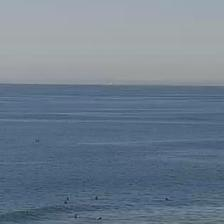surfer: (93, 216, 102, 220), (74, 213, 79, 219), (64, 200, 68, 204), (66, 197, 69, 201), (165, 197, 168, 200), (96, 196, 98, 200)
